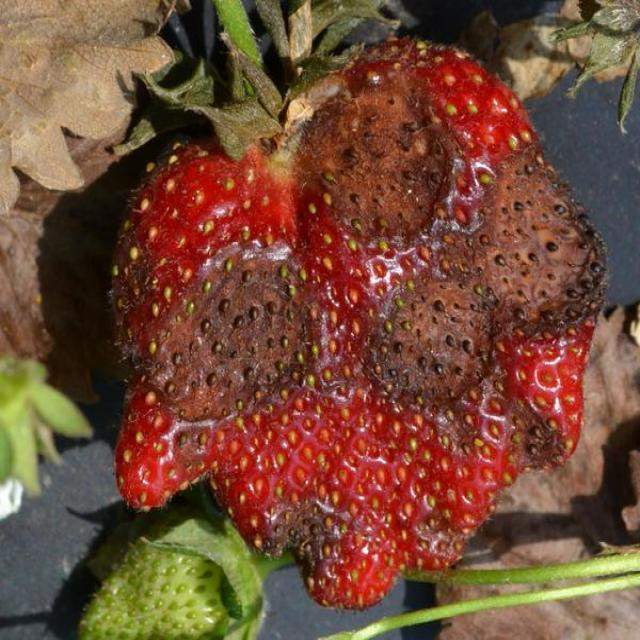Mancha negra Antracnosis: (100, 64, 610, 605)
